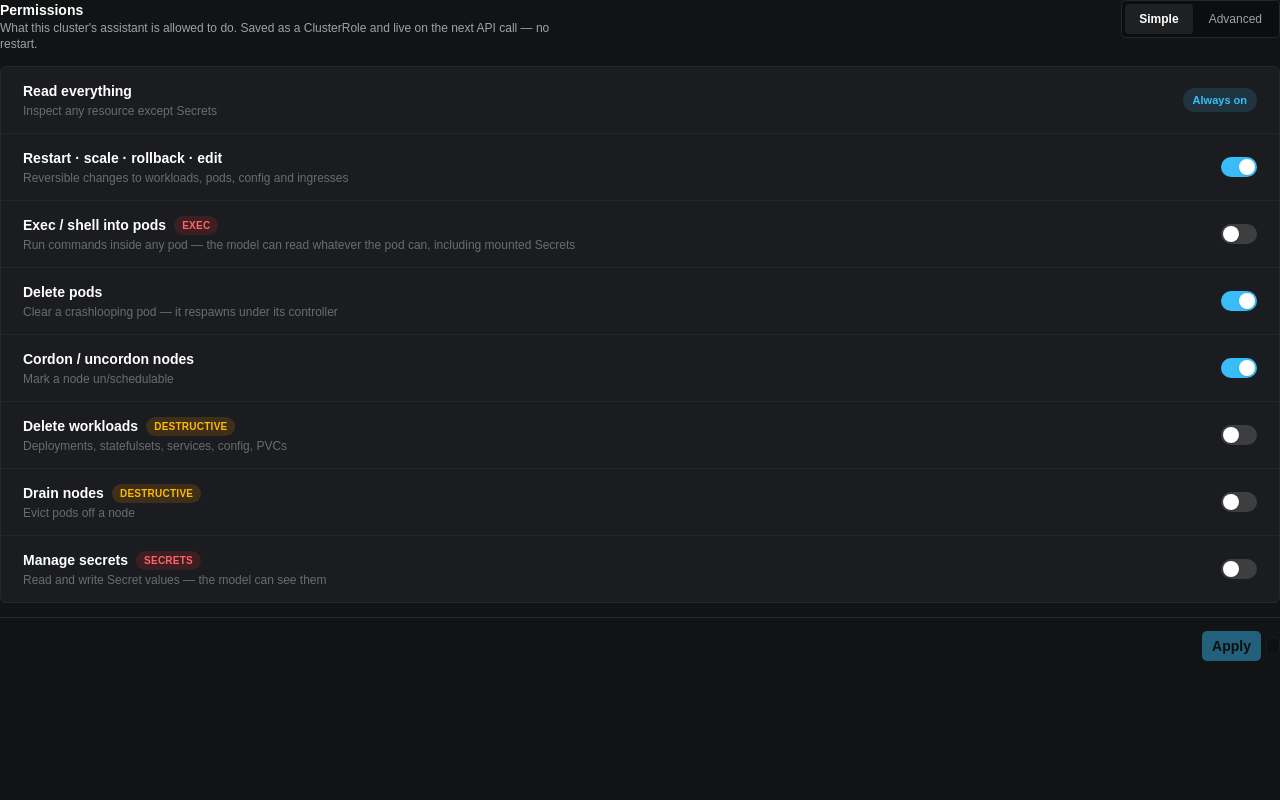
it: PermissionsTab › a failed apply keeps the ReviewDialog open and shows the error instead of reporting success
Expected: the text "Read everything" is shown, [23,81,132,101]
Click the switch named "delete workloads" at (1239, 435), box [1221,425,1257,445]
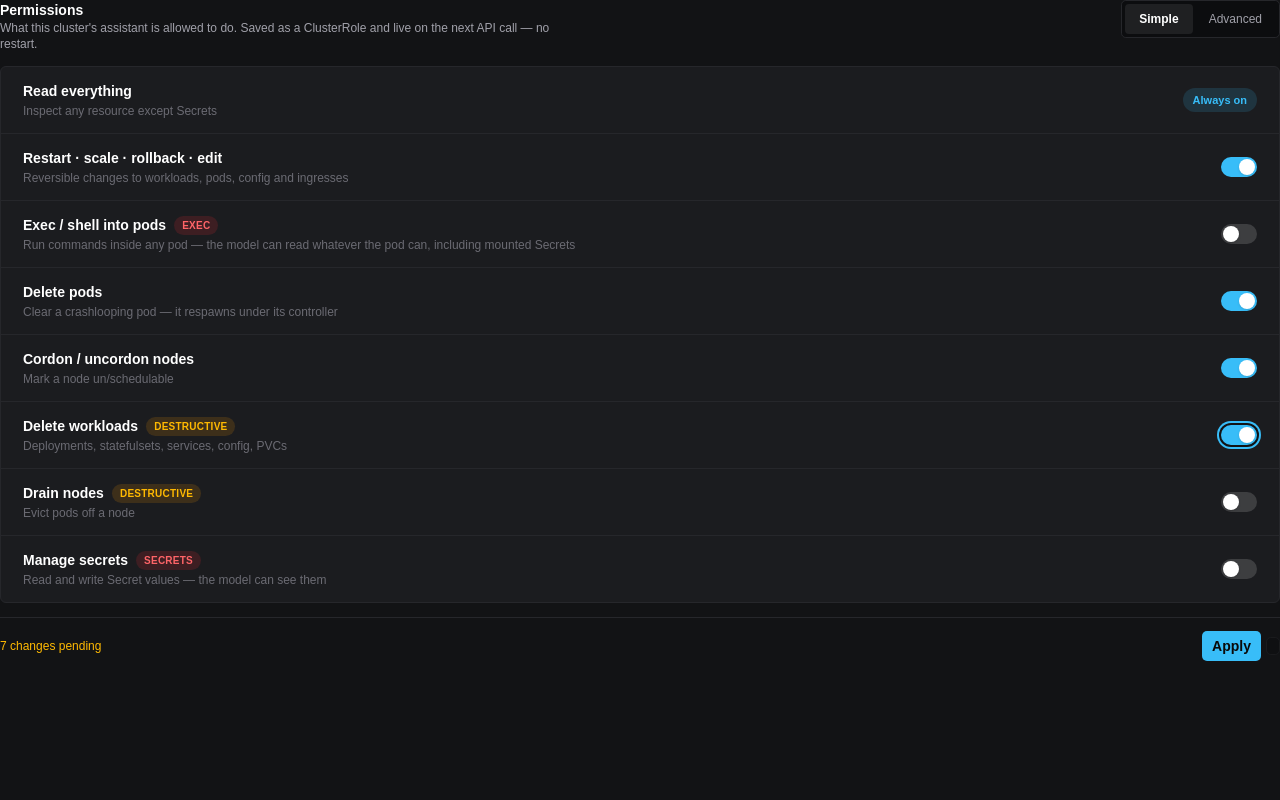
Click the button "Apply" at (1232, 646), box [1201,630,1262,662]
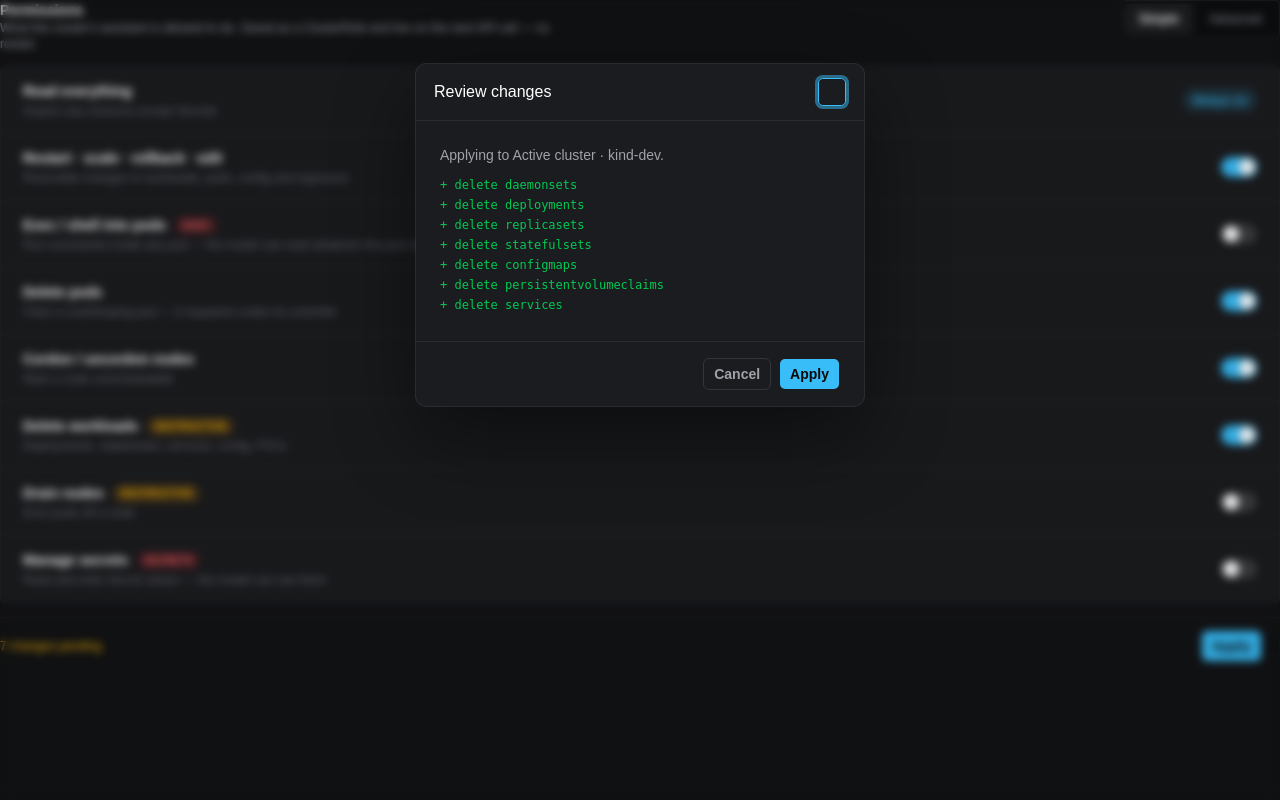
Click the button "Apply" at (810, 374), box [779,358,840,390]
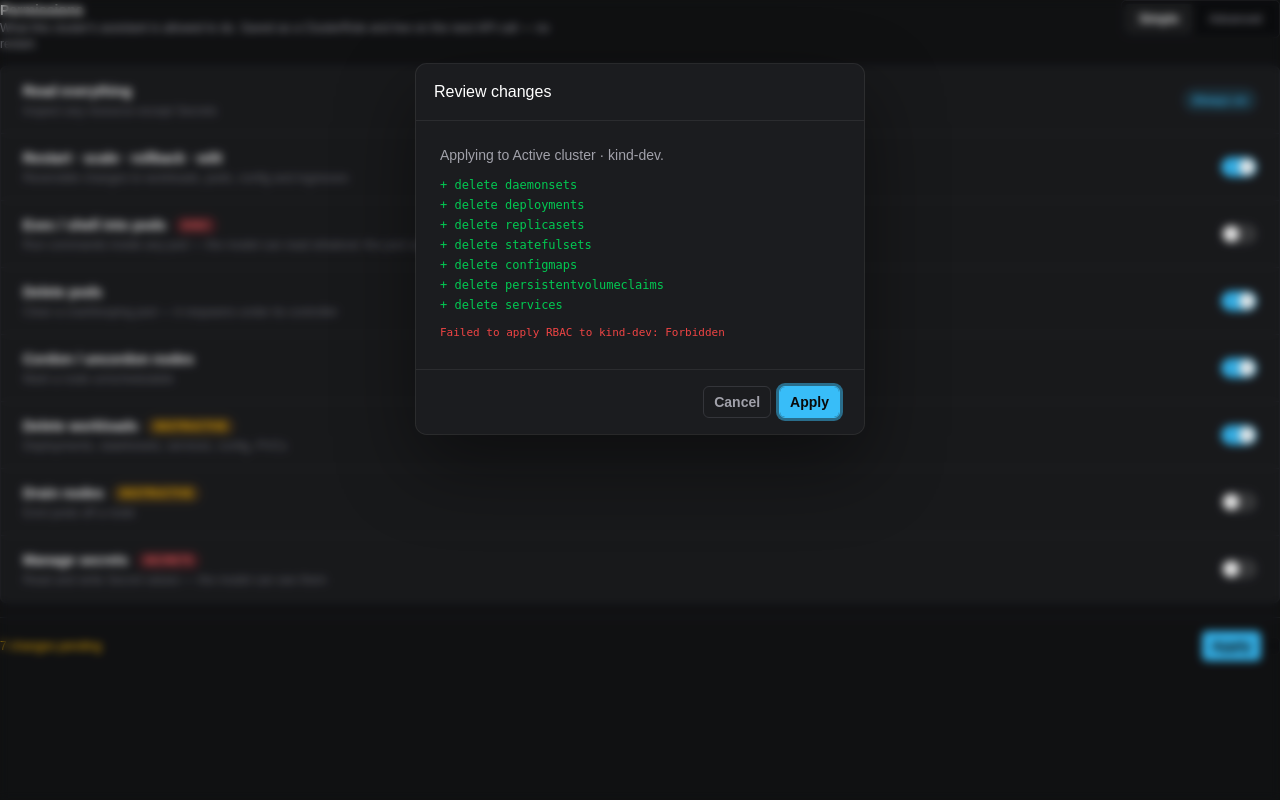
Expected: the dialog is shown, [416,64,864,434]
Expected: the text "Failed to apply RBAC to kind-dev: Forbidden" is shown, [440,326,725,339]
